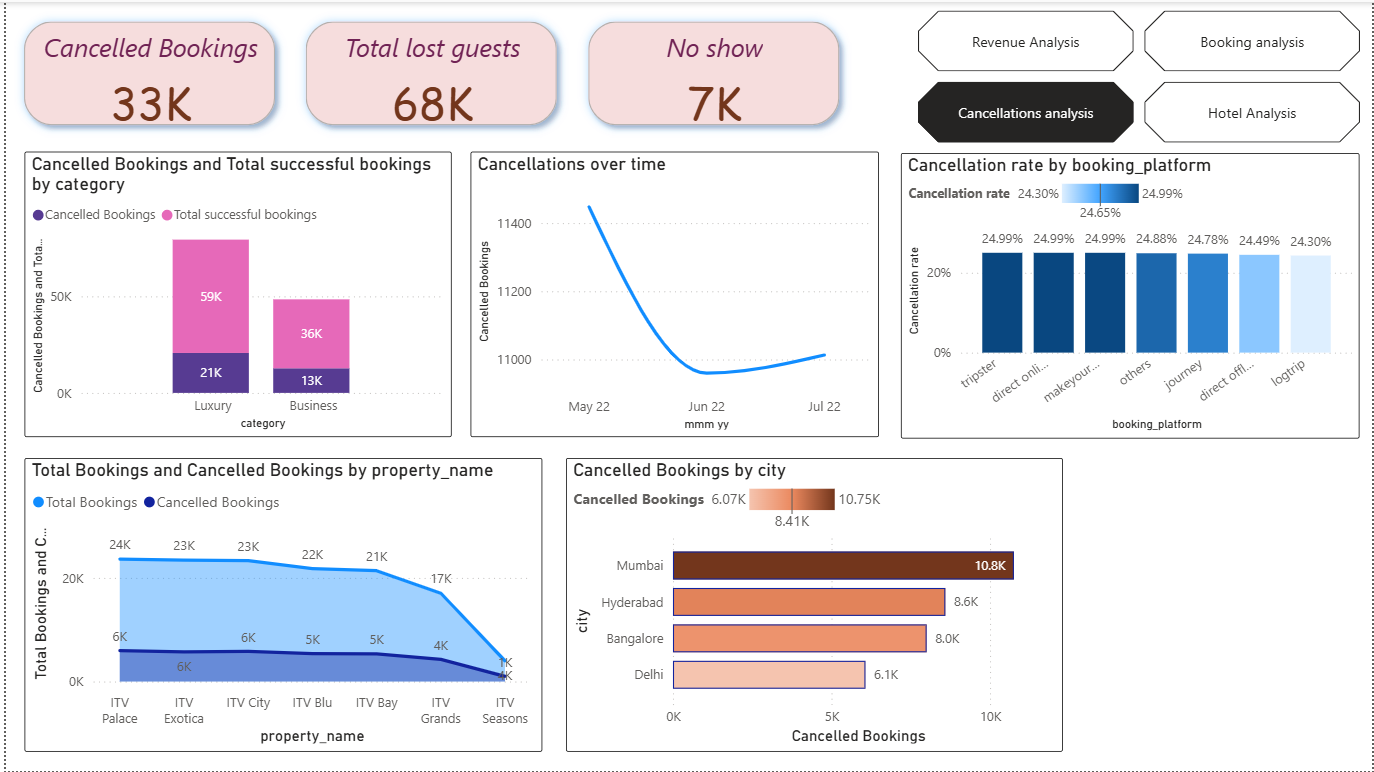

The dashboard page shown, as its layout file describes it:
{"tool":"powerbi","page":{"name":"Cancellations analysis","canvas":[1280,720],"ordinal":2},"visuals":[{"type":"cardVisual","fields":{"Data":["guests measure.Cancelled Bookings","guests measure.Total lost guests","guests measure.No show"]},"box":[0,0,799.4,132.1],"z":0},{"type":"areaChart","fields":{"Y":["guests measure.Total Bookings","guests measure.Cancelled Bookings"],"Category":["dim_hotels.property_name"]},"box":[17.5,427.5,485,275],"z":1000},{"type":"lineChart","title":"Cancellations over time","fields":{"Y":["guests measure.Cancelled Bookings"],"Category":["dim_date.mmm yy"]},"box":[435,140,382.5,267.5],"z":2000},{"type":"columnChart","fields":{"Y":["guests measure.Cancelled Bookings","guests measure.Total successful bookings"],"Category":["dim_hotels.category"]},"box":[17.5,140,400,267.5],"z":3000},{"type":"clusteredBarChart","fields":{"Y":["guests measure.Cancelled Bookings"],"Category":["dim_hotels.city"]},"box":[525,427.5,465,275],"z":4000},{"type":"pageNavigator","box":[854,8,414,124],"z":5000},{"type":"clusteredColumnChart","fields":{"Y":["guests measure.Cancellation rate"],"Category":["fact_bookings.booking_platform"]},"box":[837.7,140.8,429.8,267],"z":6000}]}

Visuals, with their boxes in screenshot pixels (x1, y1, x2, y2), scaled from the page's 1280x720 canvas onto the 1374x772 screenshot:
cardVisual - guests measure.Cancelled Bookings x guests measure.Total lost guests: (0, 0, 858, 142)
areaChart - guests measure.Total Bookings x guests measure.Cancelled Bookings: (19, 458, 539, 753)
"Cancellations over time" lineChart: (467, 150, 878, 437)
columnChart - guests measure.Cancelled Bookings x guests measure.Total successful bookings: (19, 150, 448, 437)
clusteredBarChart - guests measure.Cancelled Bookings x dim_hotels.city: (564, 458, 1063, 753)
pageNavigator: (917, 9, 1361, 142)
clusteredColumnChart - guests measure.Cancellation rate x fact_bookings.booking_platform: (899, 151, 1361, 437)
